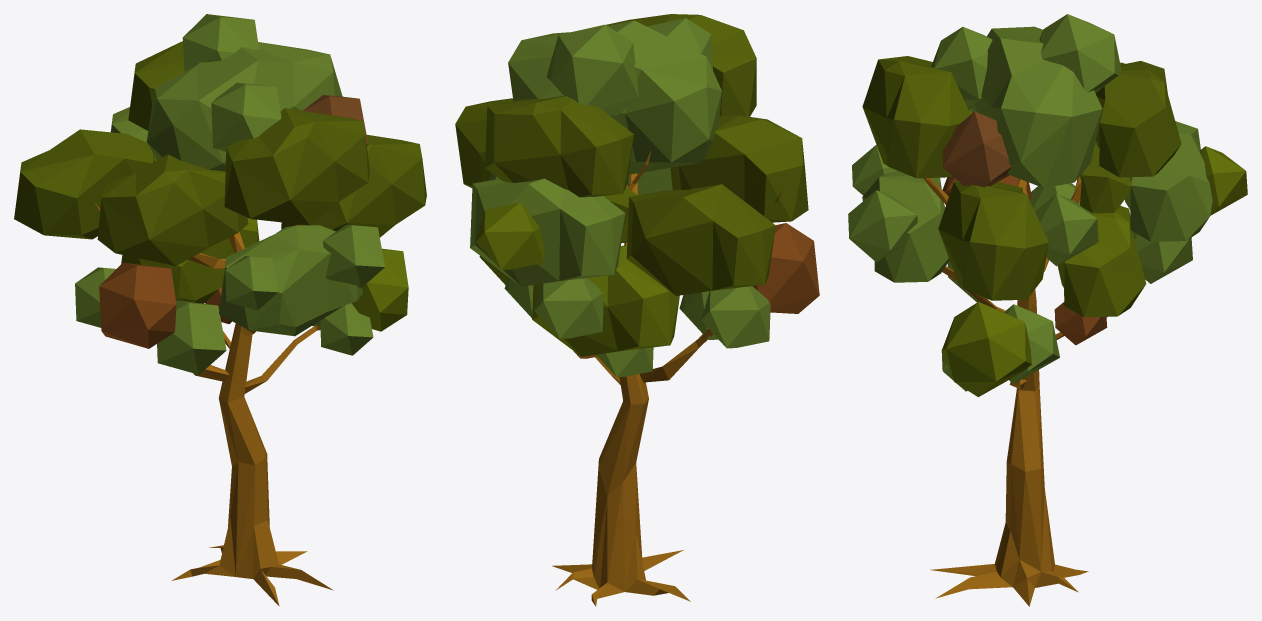
Rendered from Acacia Tree4.fbx.
3 views of the same model, side by side, from view 1: azimuth 30°, elevation 25°; view 2: azimuth 150°, elevation 25°; view 3: azimuth 270°, elevation 25° (orthographic). The views are drawn at different scales.
Visible parts, largest first — view 1: Tree4; view 2: Tree4; view 3: Tree4.
Boxes of the visible parts, x1,y1,x2,y2 form: Tree4: [14, 14, 426, 606]; Tree4: [455, 14, 819, 606]; Tree4: [848, 14, 1247, 606].
Size of the model in its own units: 605 by 896 by 580.
Materials: 1 (1 with a texture image).
